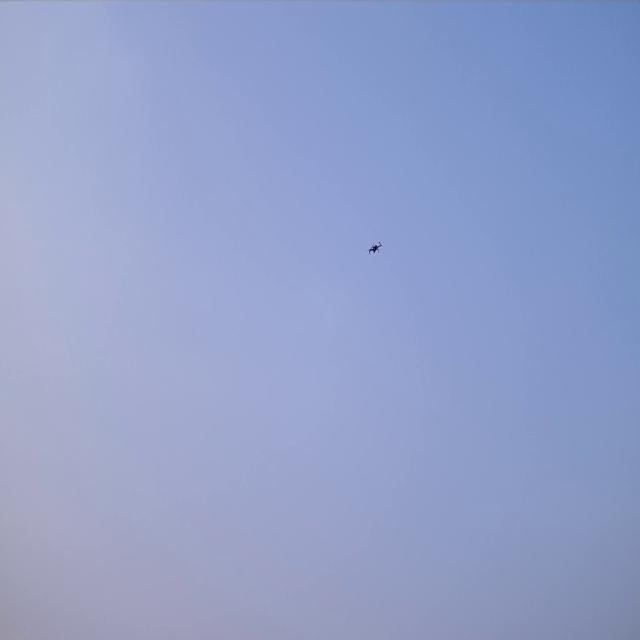UAV: (366, 240, 382, 256)
